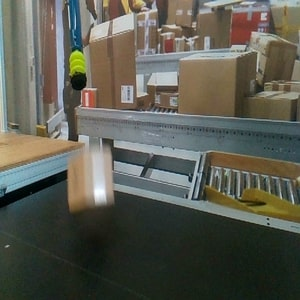box: (66, 144, 117, 215)
